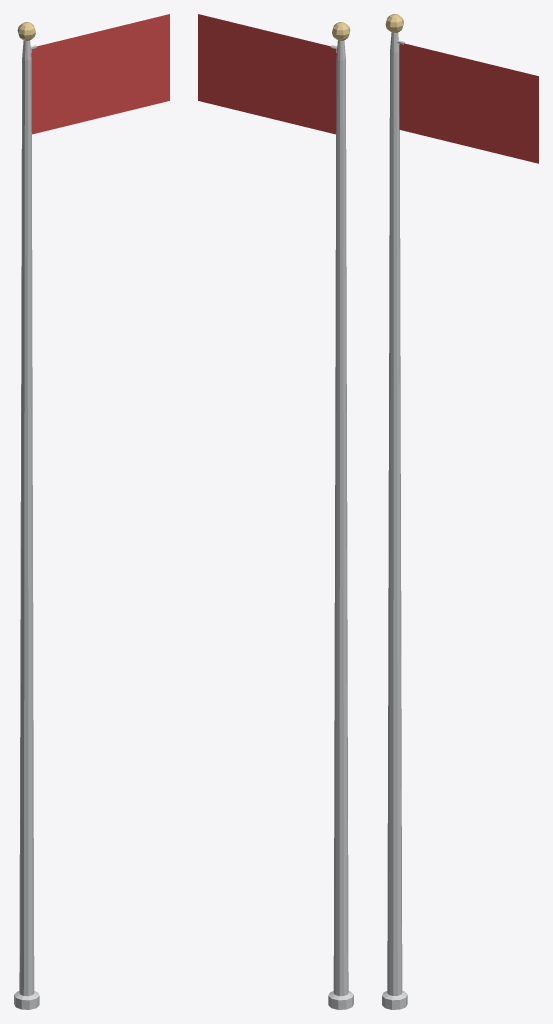
Rendered from flagpole_10m.glb.
The picture shows the model from 3 angles, left to right: view 1: azimuth 30°, elevation 25°; view 2: azimuth 150°, elevation 25°; view 3: azimuth 330°, elevation 25°; orthographic projection.
Parts seen in each view (by area): view 1: flagpole_10m, flag; view 2: flagpole_10m, flag; view 3: flagpole_10m, flag.
Part boxes in pixels (x1=…): flagpole_10m: x1=14, y1=22, x2=39, y2=1009; flag: x1=31, y1=14, x2=169, y2=134; flagpole_10m: x1=328, y1=22, x2=353, y2=1009; flag: x1=198, y1=14, x2=336, y2=134; flagpole_10m: x1=382, y1=14, x2=407, y2=1009; flag: x1=399, y1=43, x2=538, y2=163.
Size of the model in its own units: 1.67 by 10.17 by 0.2283.
